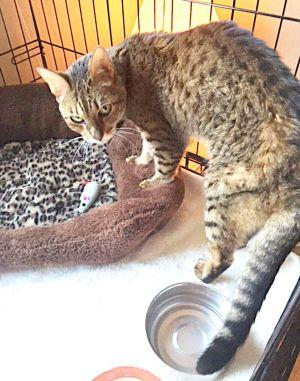bengal: (31, 45, 140, 158)
